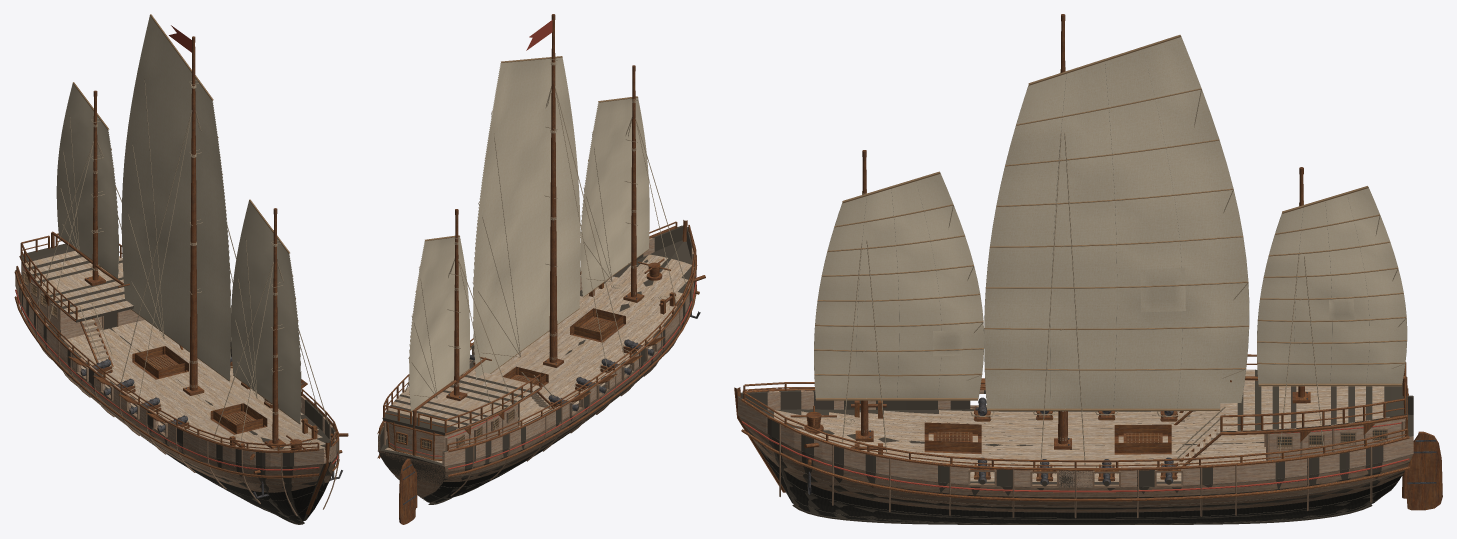
File: fuchuan-lod2.glb
3 renders of one model, left to right at view 1: azimuth 30°, elevation 25°; view 2: azimuth 150°, elevation 25°; view 3: azimuth 270°, elevation 25°, orthographic. The views are drawn at different scales.
Visible parts, largest first — view 1: sail_1, deck, hull, sail_0, sail_2, shadow_hull, deck_fittings, bulwark_rails, mast_timber_1, shadow_deck, sterncastle, mast_timber_0 (+6 smaller); view 2: sail_1, deck, sail_0, hull, sail_2, shadow_hull, deck_fittings, bulwark_rails, mast_timber_1, shadow_deck, mast_timber_0, cargo_hold_coaming_5.8 (+8 smaller); view 3: sail_1, hull, sail_0, sail_2, deck, shadow_hull, bulwark_rails, deck_fittings, shadow_deck, rudder_blade, sterncastle, cargo_hold_coaming_5.8 (+2 smaller).
Part boxes in pixels (<box>): sail_1: <box>121,14,231,381</box>; deck: <box>19,251,325,450</box>; hull: <box>14,270,339,524</box>; sail_0: <box>231,199,301,424</box>; sail_2: <box>56,82,118,278</box>; shadow_hull: <box>15,270,337,522</box>; deck_fittings: <box>21,262,348,498</box>; bulwark_rails: <box>16,233,338,453</box>; mast_timber_1: <box>189,43,197,390</box>; shadow_deck: <box>21,243,133,322</box>; sterncastle: <box>23,266,144,339</box>; mast_timber_0: <box>272,214,278,443</box>; sail_1: <box>472,56,580,378</box>; deck: <box>382,254,691,463</box>; sail_0: <box>580,96,649,297</box>; hull: <box>377,220,697,504</box>; sail_2: <box>408,235,469,411</box>; shadow_hull: <box>378,225,695,502</box>; deck_fittings: <box>383,258,705,460</box>; bulwark_rails: <box>379,221,695,450</box>; mast_timber_1: <box>549,20,557,362</box>; shadow_deck: <box>383,374,540,435</box>; mast_timber_0: <box>631,71,636,297</box>; cargo_hold_coaming_5.8: <box>570,308,625,342</box>; sail_1: <box>984,35,1249,411</box>; hull: <box>734,387,1413,524</box>; sail_0: <box>814,171,984,400</box>; sail_2: <box>1257,186,1407,386</box>; deck: <box>774,369,1407,481</box>; shadow_hull: <box>738,390,1413,523</box>; bulwark_rails: <box>743,354,1408,467</box>; deck_fittings: <box>790,385,1407,494</box>; shadow_deck: <box>1220,369,1407,432</box>; rudder_blade: <box>1406,431,1442,510</box>; sterncastle: <box>1266,418,1404,460</box>; cargo_hold_coaming_5.8: <box>924,422,981,454</box>.
Bounding box in the file's own units: 10.4 × 26.66 × 33.57.
Materials: 13 (8 with a texture image).
